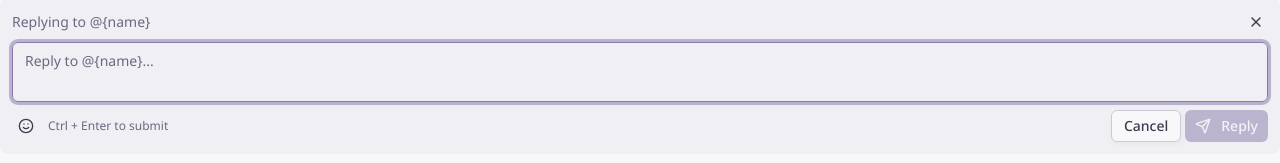
CommentReplyForm › Form interaction › should enable submit button when content is not empty
expect the button "Reply" is disabled: met, box [1185,110,1268,142]
Type "Test" into the text box.
click(640, 72); type("Test")  # box [12,42,1268,102]
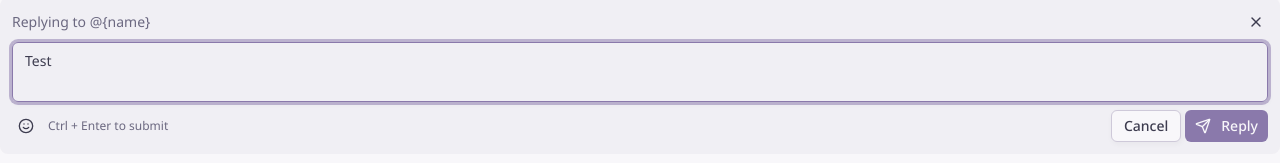
expect the button "Reply" is enabled: met, box [1185,110,1268,142]
